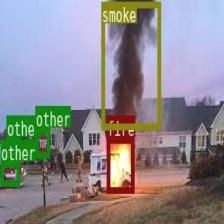fire: (106, 137, 134, 191)
smoke: (101, 1, 160, 129)
